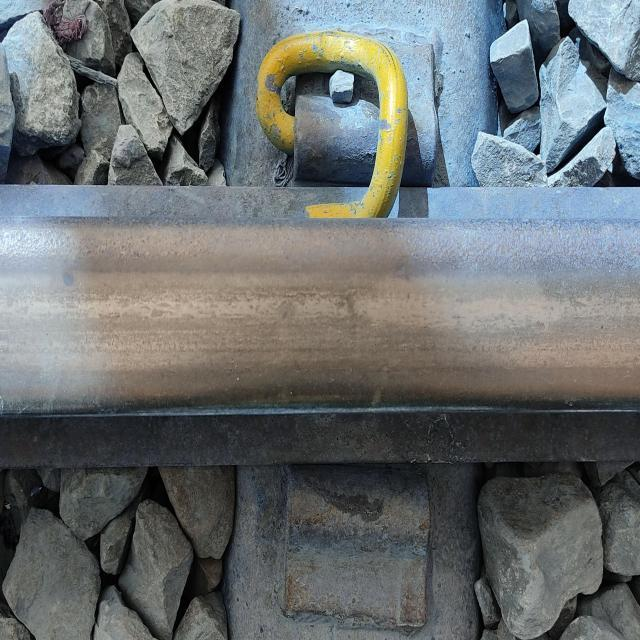Good Fasteners: (250, 26, 473, 238)
Missing Fastener: (270, 451, 455, 634)
